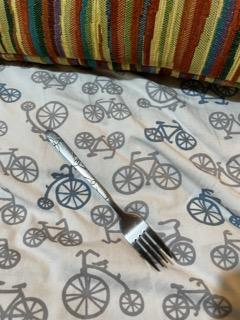fork: (42, 126, 176, 274)
